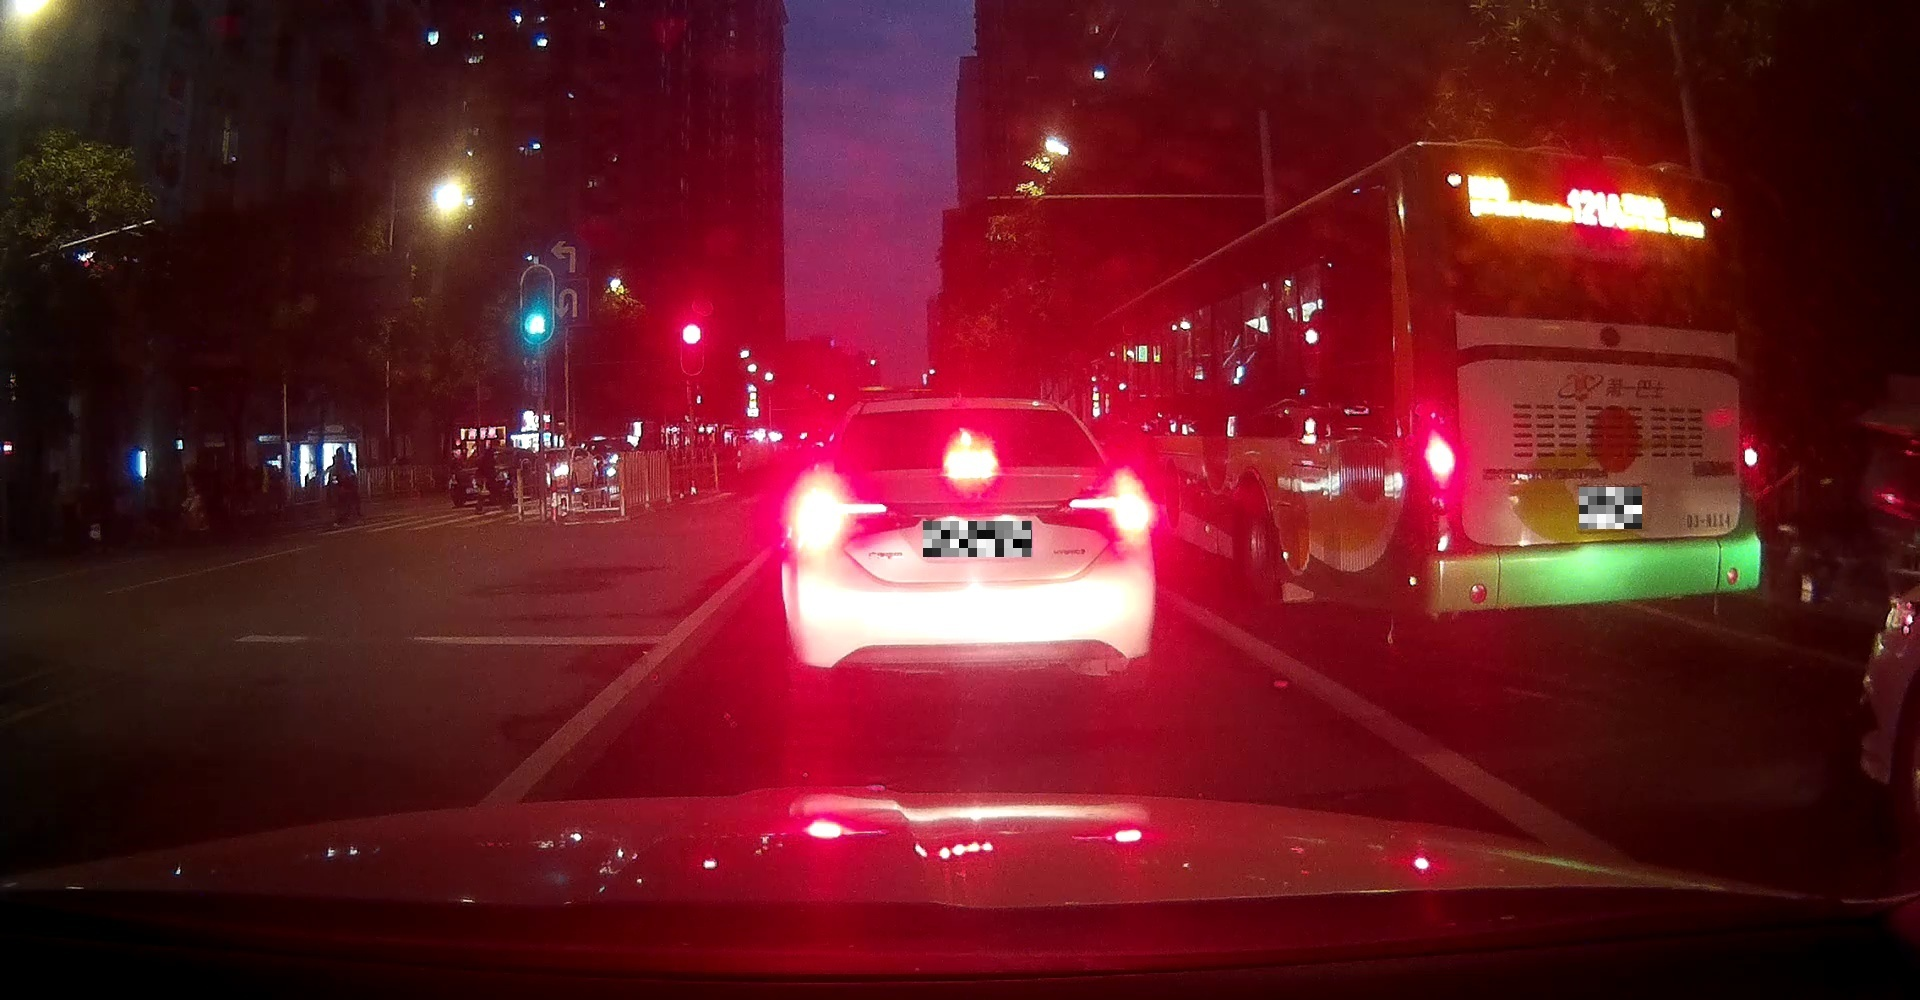L_light: (786, 472, 888, 558), (1417, 420, 1463, 504)
R_light: (1065, 468, 1156, 541), (1742, 426, 1761, 492)
T_light: (938, 443, 999, 480), (1564, 164, 1622, 184)
night-brake: (778, 395, 1157, 693)
night-no: (1410, 140, 1764, 635)
plate_1: (923, 522, 1032, 557)
plate_2: (1578, 487, 1642, 529)
